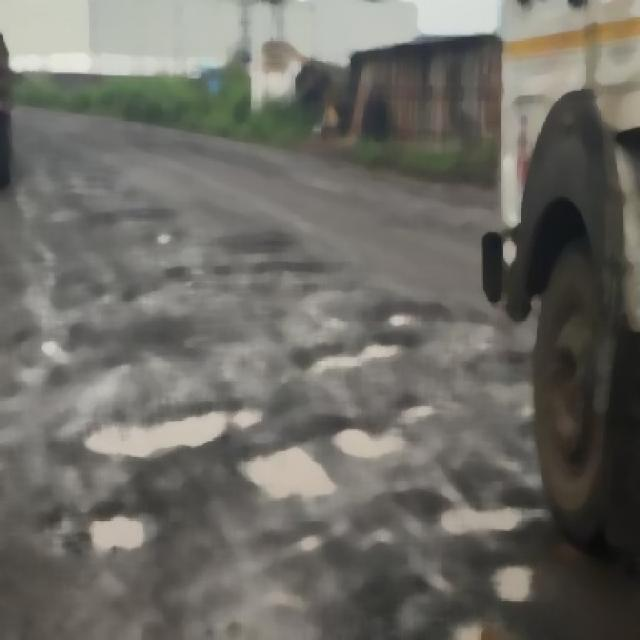Pothole: (428, 497, 529, 638), (106, 406, 231, 479), (51, 508, 168, 558), (327, 406, 421, 460), (245, 434, 313, 498)
